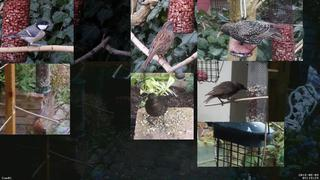blackbird: (144, 93, 174, 130)
dunnock: (141, 20, 177, 69)
great tit: (3, 20, 54, 51)
starling: (217, 20, 283, 45), (203, 81, 248, 106)
